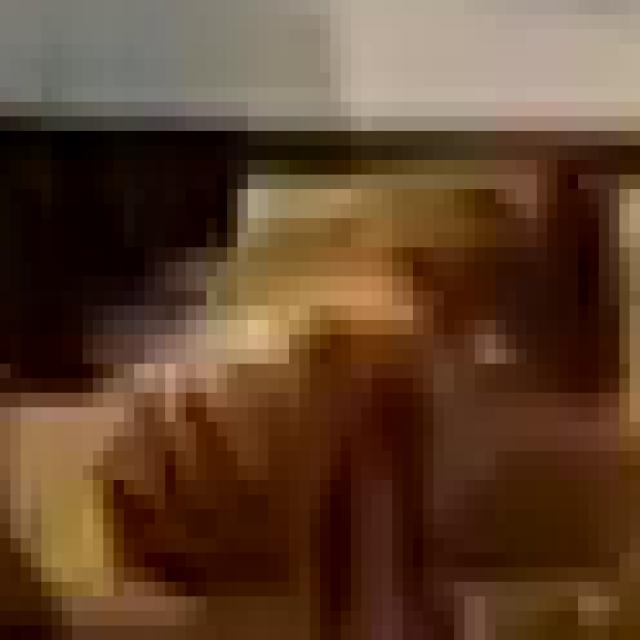honeybee: (103, 145, 640, 582)
